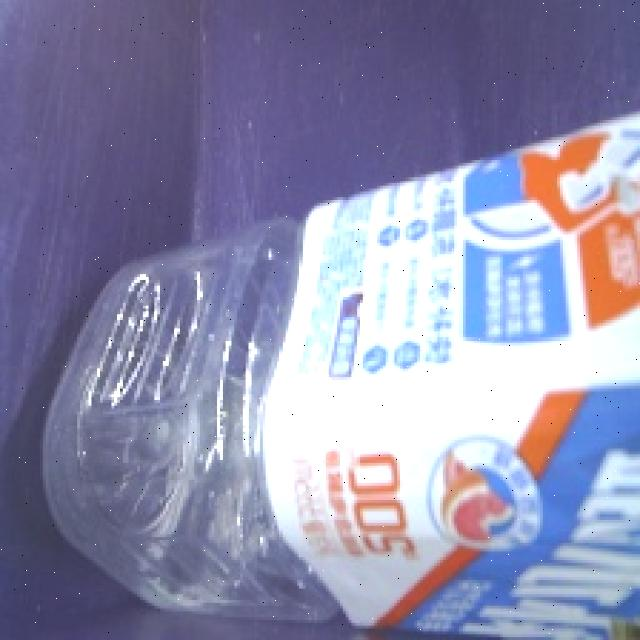plastic: (30, 83, 640, 640)
